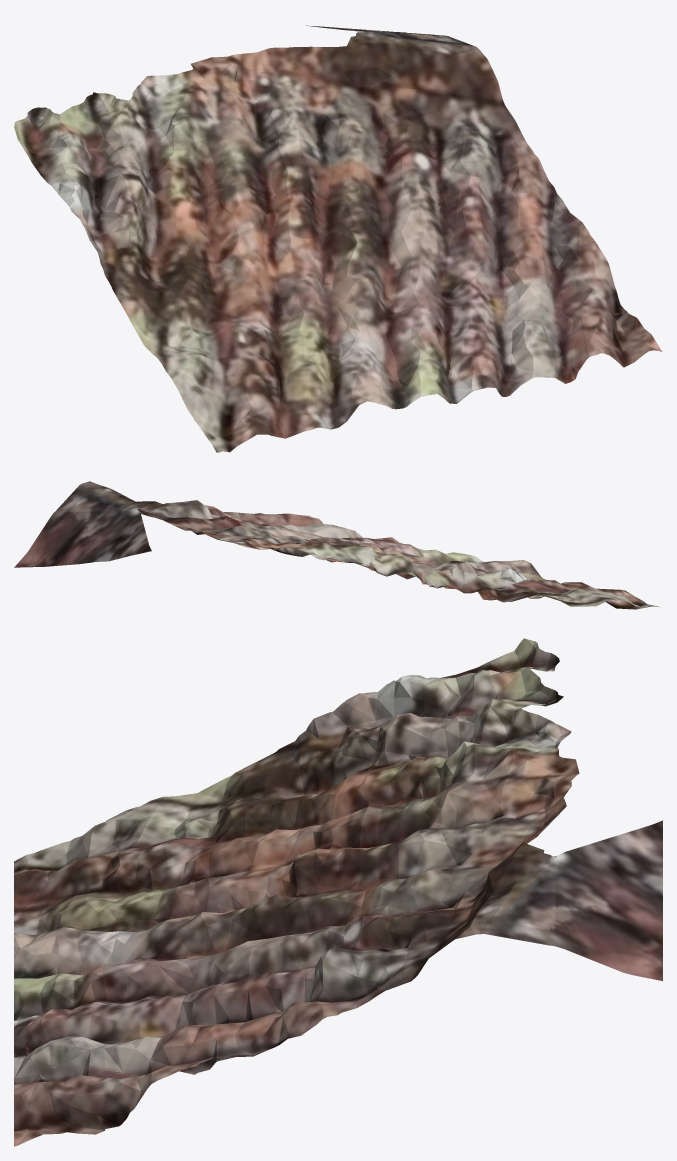
3 renders of one model, top to bottom at view 1: azimuth 30°, elevation 25°; view 2: azimuth 150°, elevation 25°; view 3: azimuth 270°, elevation 25°, orthographic. The views are drawn at different scales.
Size of the model in its own units: 1.67 by 0.6946 by 1.67.
Materials: 3 (3 with a texture image).
